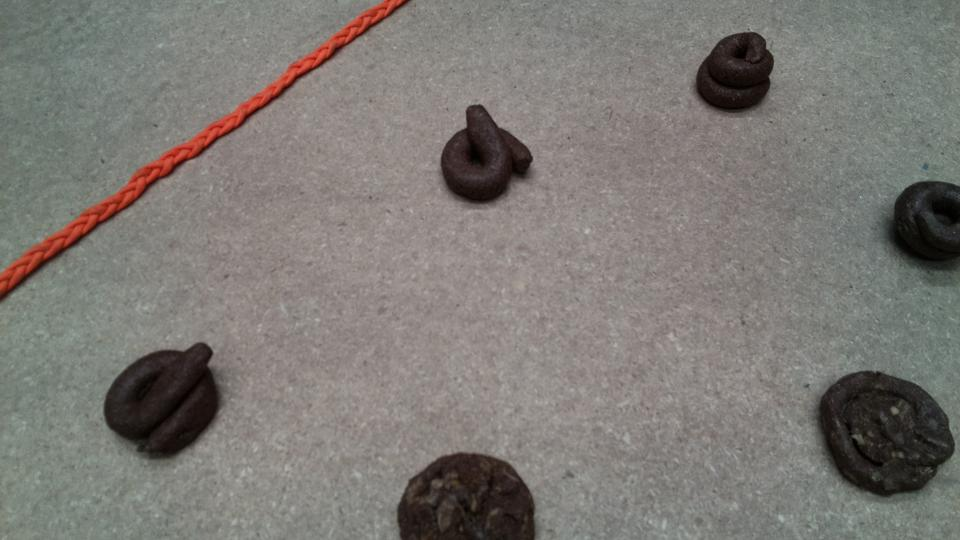poop: (816, 365, 956, 499), (100, 338, 225, 463), (396, 448, 539, 540), (437, 102, 534, 207), (693, 28, 778, 116), (891, 176, 960, 268)
rope: (1, 1, 388, 289)
